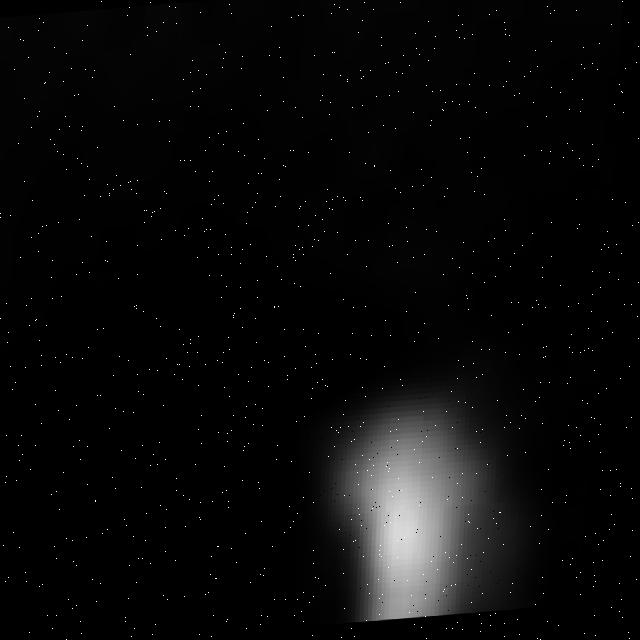person: (265, 228, 576, 633)
